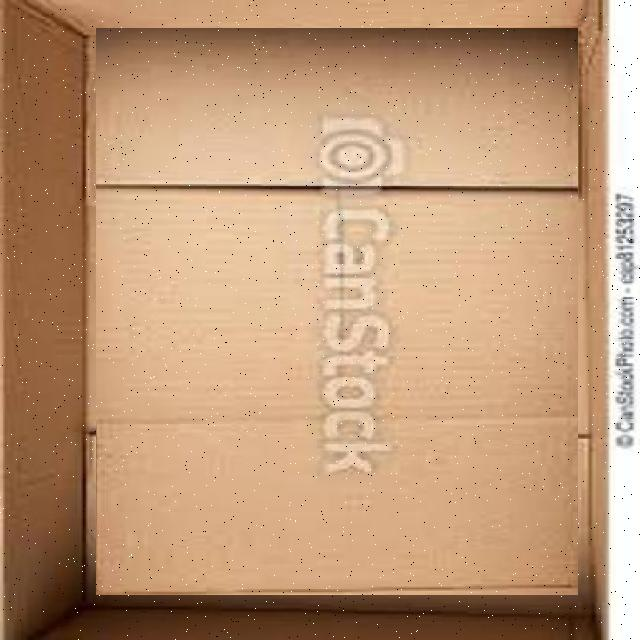normal: (96, 28, 578, 595)
